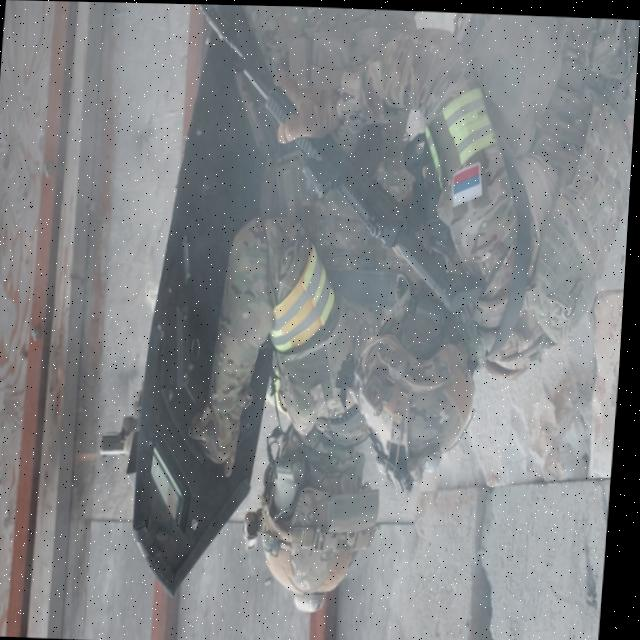firearm: (180, 3, 507, 310)
pistol: (106, 430, 134, 455)
